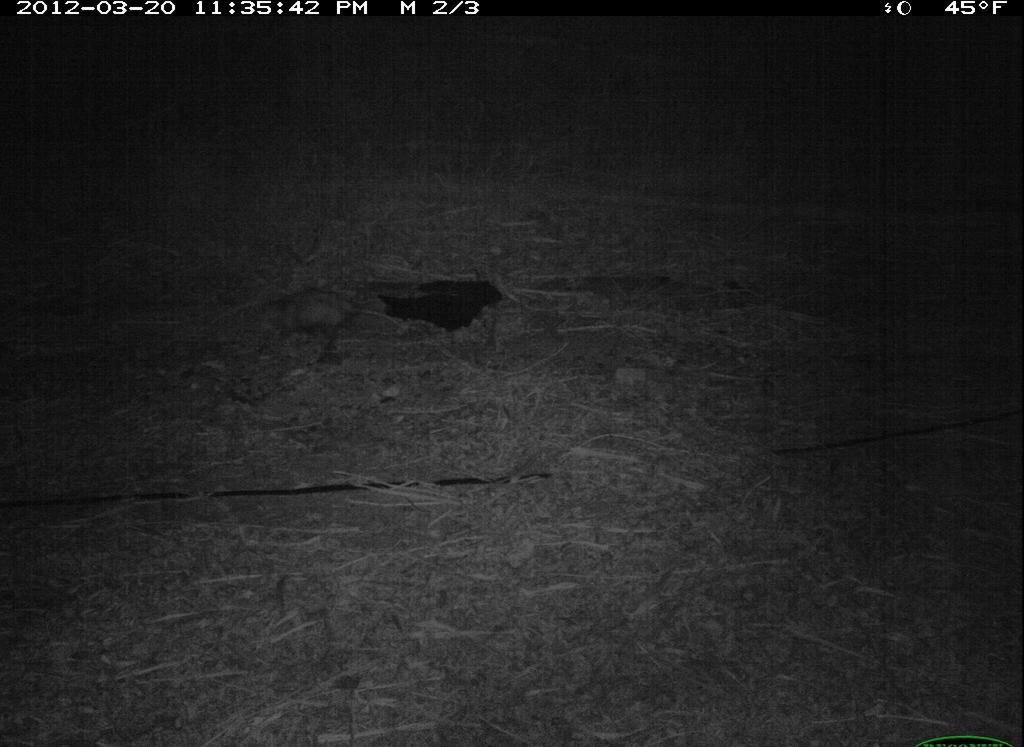opossum: (245, 280, 420, 359)
